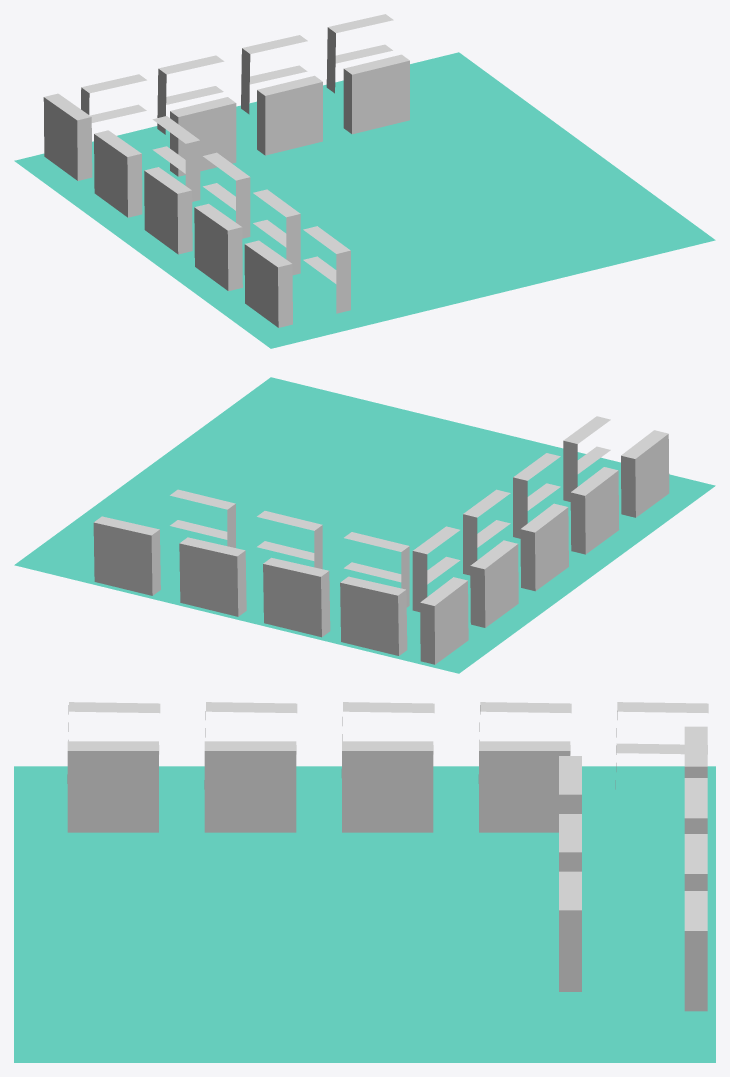
File: store_map.glb
3 renders of one model, top to bottom at view 1: azimuth 30°, elevation 25°; view 2: azimuth 150°, elevation 25°; view 3: azimuth 270°, elevation 25°, orthographic. The views are drawn at different scales.
Parts seen in each view (by area): view 1: Plane, K14, K12, K5, K3, K7, K1, K9, K10, K2, K8, K6 (+5 smaller); view 2: Plane, K13, K15, K11, K17, K7, K9, K5, K1, K3, K8, K2 (+5 smaller); view 3: Plane, K4, K2, K6, K8, K17, K14, K9, K15, K13, K10, K12 (+5 smaller).
Boxes of the visible parts, box(x1,y1,x2,y2) form: Plane: box(14, 52, 715, 348); K14: box(343, 54, 409, 134); K12: box(257, 75, 322, 155); K5: box(144, 167, 192, 254); K3: box(194, 203, 242, 291); K7: box(94, 130, 142, 217); K1: box(244, 240, 292, 327); K9: box(43, 93, 92, 180); K10: box(170, 97, 236, 176); K2: box(303, 226, 350, 313); K8: box(152, 116, 200, 201); K6: box(203, 152, 250, 238); Plane: box(14, 377, 715, 673); K13: box(263, 557, 330, 637); K15: box(179, 537, 246, 616); K11: box(340, 576, 407, 655); K17: box(93, 516, 160, 595); K7: box(470, 540, 518, 627); K9: box(420, 577, 468, 664); K5: box(520, 503, 568, 591); K1: box(621, 430, 669, 517); K3: box(570, 467, 619, 554); K8: box(412, 526, 460, 612); K2: box(563, 416, 610, 501); Plane: box(14, 766, 715, 1062); K4: box(204, 741, 296, 832); K2: box(67, 741, 158, 832); K6: box(342, 741, 433, 832); K8: box(479, 741, 570, 832); K17: box(684, 891, 707, 1011); K14: box(559, 871, 581, 991); K9: box(615, 702, 708, 789); K15: box(684, 834, 707, 890); K13: box(684, 778, 707, 833); K10: box(559, 756, 581, 813); K12: box(559, 814, 581, 871).
Bounding box in the file's own units: 30.72 × 4.07 × 30.72.
